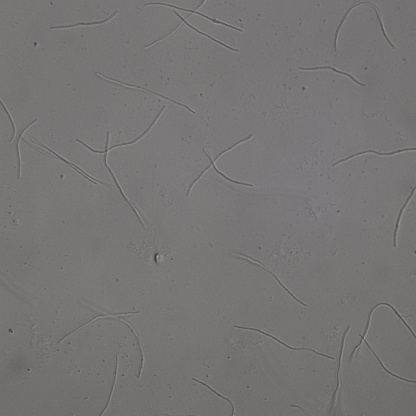Sensitive: (351, 301, 416, 386), (143, 1, 242, 56), (76, 106, 166, 155), (102, 132, 146, 228), (187, 133, 253, 196), (234, 251, 307, 306), (36, 138, 108, 188), (236, 326, 333, 360), (333, 1, 395, 53), (328, 324, 351, 411), (333, 146, 416, 167), (190, 378, 235, 416), (392, 186, 416, 246), (299, 65, 364, 86), (51, 11, 118, 31), (16, 118, 36, 180), (100, 354, 119, 416)
